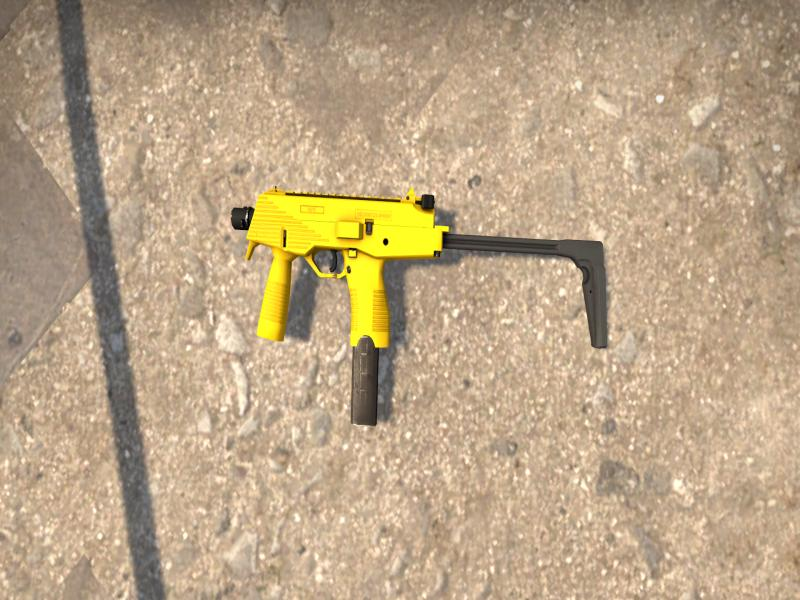MP9: (231, 187, 608, 425)
